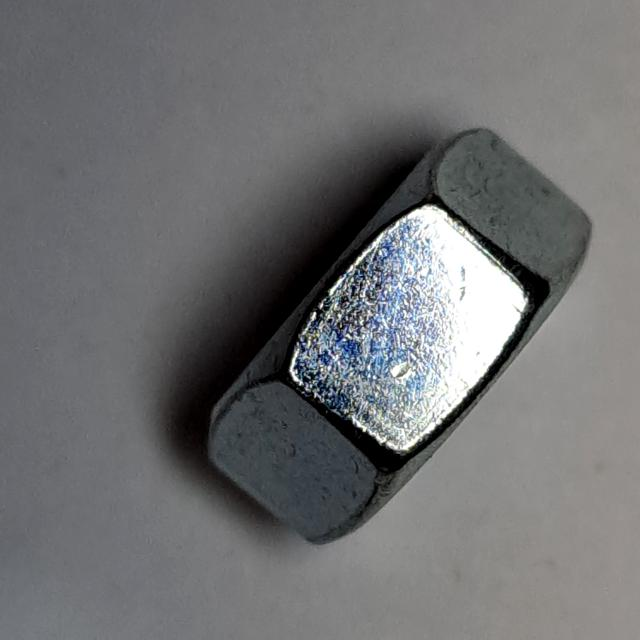Side_Excellent: (192, 113, 598, 564)
